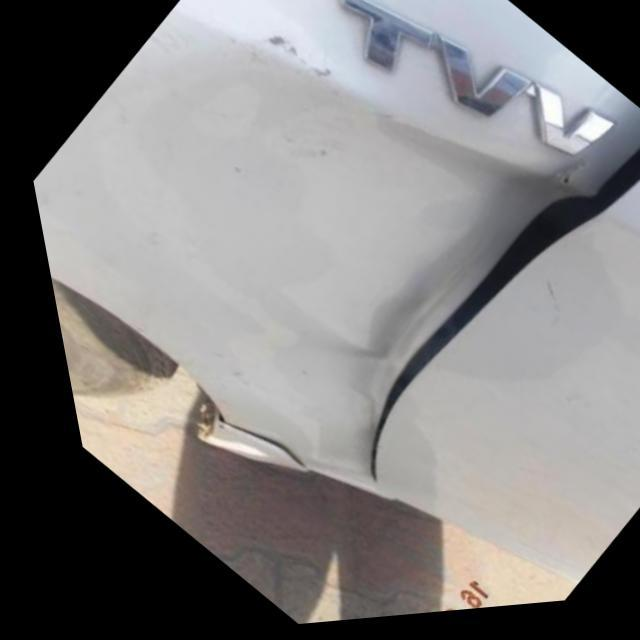dislocated part: (302, 108, 640, 497)
